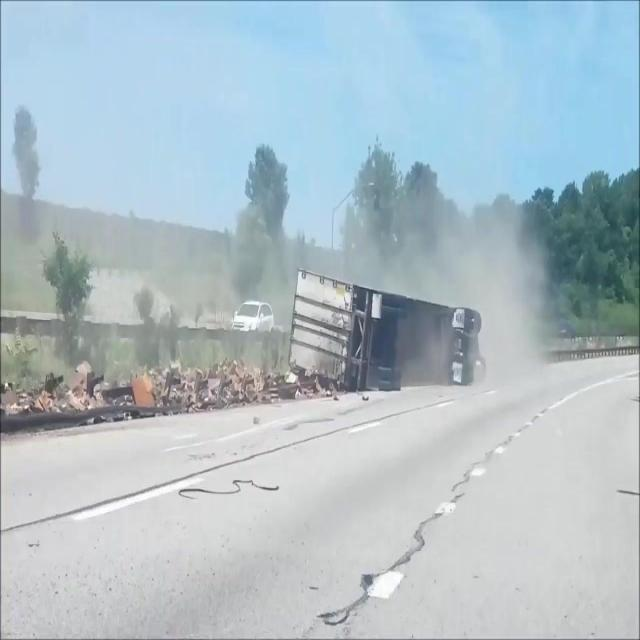severe: (286, 260, 485, 394)
